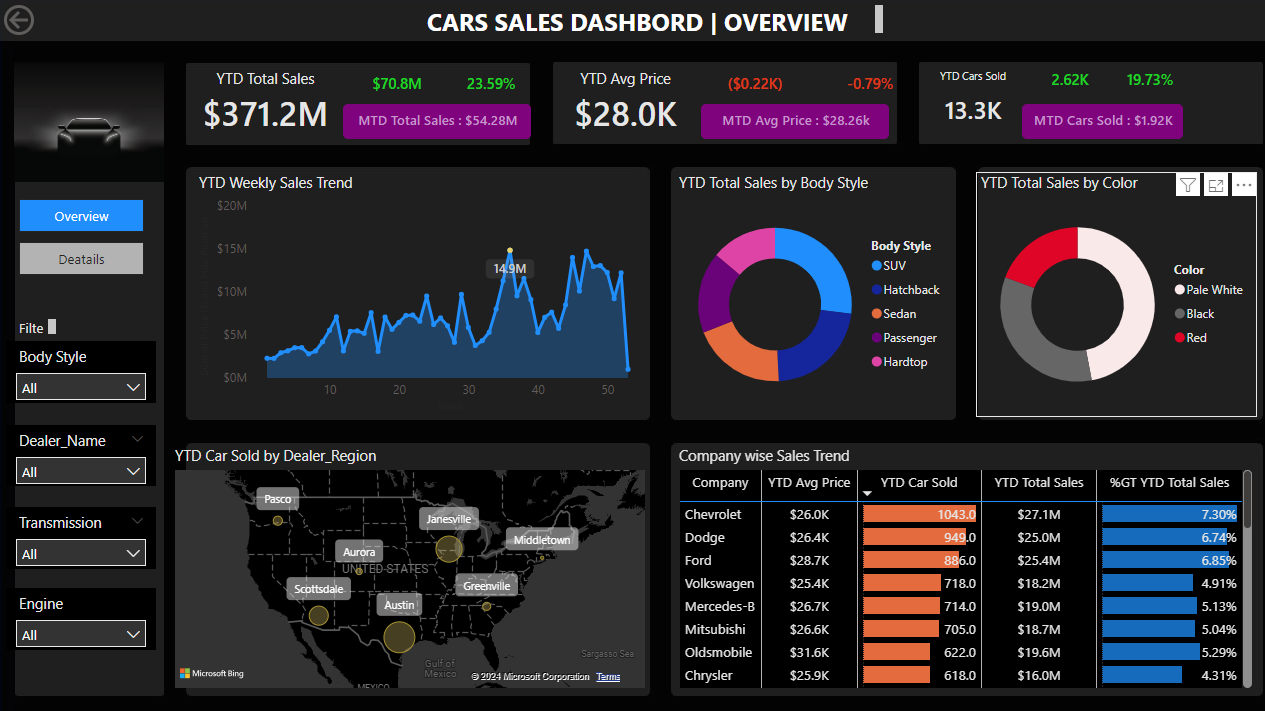

The dashboard page shown, as its layout file describes it:
{"tool":"powerbi","page":{"name":"Overview","canvas":[1280,720],"ordinal":0},"visuals":[{"type":"card","title":"YTD Total Sales","fields":{"Values":["car_data.YTD Total Sales"]},"box":[189.1,68.2,154.5,70.9],"z":0},{"type":"card","fields":{"Values":["car_data.Sales Difference"]},"box":[343.6,68.2,108.2,35.5],"z":1000},{"type":"card","fields":{"Values":["car_data.YoY Sales Growth"]},"box":[451.8,68.2,80,35.5],"z":2000},{"type":"card","fields":{"Values":["car_data.MTD KPI"]},"box":[343.6,103.6,188.2,35.5],"z":3000},{"type":"card","title":"YTD Avg Price","fields":{"Values":["car_data.YTD Avg Price"]},"box":[562.7,68.2,127.3,70.9],"z":4000},{"type":"card","fields":{"Values":["car_data.Avg Price Diff"]},"box":[701.8,68.2,108.2,35.5],"z":5000},{"type":"card","fields":{"Values":["car_data.YoY Avg Price Grow"]},"box":[817.3,68.2,108.2,35.5],"z":6000},{"type":"card","fields":{"Values":["car_data.MTD Avg Price KPI"]},"box":[701.8,103.6,188.2,35.5],"z":7000},{"type":"card","title":"YTD Cars Sold","fields":{"Values":["car_data.YTD Car Sold"]},"box":[925.5,68.2,97.3,70.9],"z":8000},{"type":"card","fields":{"Values":["car_data.Cars Sold Diff"]},"box":[1038.2,68.2,65.5,28.2],"z":9000},{"type":"card","fields":{"Values":["car_data.YoY Cars Sold Growth"]},"box":[1118.2,68.2,65.5,28.2],"z":10000},{"type":"card","fields":{"Values":["car_data.MTD Cars Sold KPI"]},"box":[1022.7,103.6,160.9,35.5],"z":11000},{"type":"areaChart","title":"YTD Weekly Sales Trend","fields":{"Category":["Calender Table.Week"],"Y":["Sum(car_data.Price ($))","car_data.Max Point on Area Chart"]},"box":[195.5,171.8,455.5,245.5],"z":12000},{"type":"donutChart","fields":{"Category":["car_data.Body Style"],"Y":["car_data.YTD Total Sales"]},"box":[674.5,171.8,280.9,245.5],"z":13000},{"type":"donutChart","fields":{"Y":["car_data.YTD Total Sales"],"Category":["car_data.Color"]},"box":[977.3,171.8,280.9,245.5],"z":14000},{"type":"map","fields":{"Category":["car_data.Dealer_Region"],"Size":["car_data.YTD Car Sold"]},"box":[170.9,445.5,480,247.3],"z":15000},{"type":"tableEx","title":"Company wise Sales Trend","fields":{"Values":["car_data.Company","car_data.YTD Avg Price","car_data.YTD Car Sold","car_data.YTD Total Sales1","car_data.YTD Total Sales"]},"box":[674.5,445.5,583.6,247.3],"z":16000},{"type":"actionButton","box":[0,0,100,40],"z":17000},{"type":"textbox","box":[423.2,0,466.2,40.4],"z":18000},{"type":"slicer","fields":{"Values":["car_data.Body Style"]},"box":[7.3,340.9,150,61.8],"z":19000},{"type":"slicer","fields":{"Values":["car_data.Engine"]},"box":[7.3,588.2,150,61.8],"z":20000},{"type":"slicer","fields":{"Values":["car_data.Dealer_Name"]},"box":[7.3,424.5,150,61.8],"z":21000},{"type":"slicer","fields":{"Values":["car_data.Transmission"]},"box":[7.3,507.3,150,61.8],"z":22000},{"type":"textbox","box":[14.5,313.6,47.3,27.3],"z":23000},{"type":"pageNavigator","box":[20,199.1,125.5,75.5],"z":24000},{"type":"image","box":[0,57.1,179.1,130],"z":24001}]}

Visuals, with their boxes in screenshot pixels (x1, y1, x2, y2), scaled from the page's 1280x720 canvas onto the 1265x711 screenshot:
"YTD Total Sales" card: select_region(187, 67, 340, 137)
card - car_data.Sales Difference: select_region(340, 67, 447, 102)
card - car_data.YoY Sales Growth: select_region(447, 67, 526, 102)
card - car_data.MTD KPI: select_region(340, 102, 526, 137)
"YTD Avg Price" card: select_region(556, 67, 682, 137)
card - car_data.Avg Price Diff: select_region(694, 67, 801, 102)
card - car_data.YoY Avg Price Grow: select_region(808, 67, 915, 102)
card - car_data.MTD Avg Price KPI: select_region(694, 102, 880, 137)
"YTD Cars Sold" card: select_region(915, 67, 1011, 137)
card - car_data.Cars Sold Diff: select_region(1026, 67, 1091, 95)
card - car_data.YoY Cars Sold Growth: select_region(1105, 67, 1170, 95)
card - car_data.MTD Cars Sold KPI: select_region(1011, 102, 1170, 137)
"YTD Weekly Sales Trend" areaChart: select_region(193, 170, 643, 412)
donutChart - car_data.Body Style x car_data.YTD Total Sales: select_region(667, 170, 944, 412)
donutChart - car_data.YTD Total Sales x car_data.Color: select_region(966, 170, 1243, 412)
map - car_data.Dealer_Region x car_data.YTD Car Sold: select_region(169, 440, 643, 684)
"Company wise Sales Trend" tableEx: select_region(667, 440, 1243, 684)
actionButton: select_region(0, 0, 99, 40)
textbox: select_region(418, 0, 879, 40)
slicer - car_data.Body Style: select_region(7, 337, 155, 398)
slicer - car_data.Engine: select_region(7, 581, 155, 642)
slicer - car_data.Dealer_Name: select_region(7, 419, 155, 480)
slicer - car_data.Transmission: select_region(7, 501, 155, 562)
textbox: select_region(14, 310, 61, 337)
pageNavigator: select_region(20, 197, 144, 271)
image: select_region(0, 56, 177, 185)
